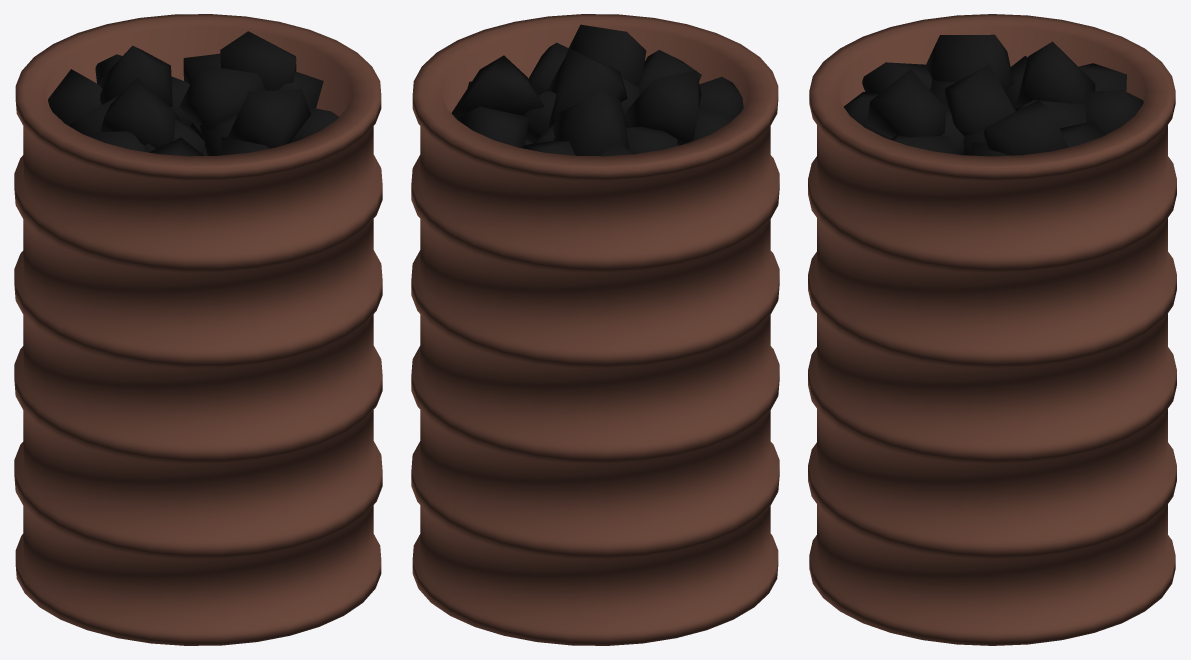
The model's file is Barrel.fbx.
3 renders of one model, left to right at view 1: azimuth 30°, elevation 25°; view 2: azimuth 150°, elevation 25°; view 3: azimuth 270°, elevation 25°, orthographic.
Visible parts, largest first — view 1: Barrel, Coal.014, Coal.015, Coal.013, Coal.017, Coal.016, Coal.012, Coal.003, Coal.006, Coal.005, Coal.011, Coal.010 (+5 smaller); view 2: Barrel, Coal.013, Coal.016, Coal.017, Coal.015, Coal.014, Coal.001, Coal.009, Coal.008, Coal.005, Coal.010, Coal.004 (+2 smaller); view 3: Barrel, Coal.014, Coal.013, Coal.016, Coal.015, Coal.017, Coal, Coal.009, Coal.002, Coal.012, Coal.005, Coal.001 (+3 smaller).
Part boxes in pixels (x1,y1,x2,y2): Barrel: (14,14,382,645); Coal.014: (227,89,310,148); Coal.015: (179,65,266,132); Coal.013: (100,78,181,148); Coal.017: (220,31,296,90); Coal.016: (99,45,172,107); Coal.012: (48,69,102,125); Coal.003: (278,71,323,108); Coal.006: (200,114,237,155); Coal.005: (290,107,338,142); Coal.011: (80,131,147,152); Coal.010: (68,95,119,132); Barrel: (411,14,779,645); Coal.013: (624,70,701,143); Coal.016: (552,89,629,155); Coal.017: (451,55,544,118); Coal.015: (549,48,627,128); Coal.014: (565,24,646,85); Coal.001: (457,106,529,148); Coal.009: (699,77,743,117); Coal.008: (637,50,701,93); Coal.005: (528,42,568,94); Coal.010: (626,126,677,153); Coal.004: (524,88,556,143); Barrel: (808,14,1176,645); Coal.014: (866,69,948,138); Coal.013: (925,34,1013,91); Coal.016: (1016,41,1095,106); Coal.015: (945,64,1015,136); Coal.017: (983,100,1068,155); Coal: (1084,90,1143,134); Coal.009: (862,62,932,92); Coal.002: (1015,100,1086,128); Coal.012: (1078,63,1126,91); Coal.005: (890,135,954,153); Coal.001: (1060,121,1105,147).
Bounding box in the file's own units: 84.04 × 128 × 84.04.
